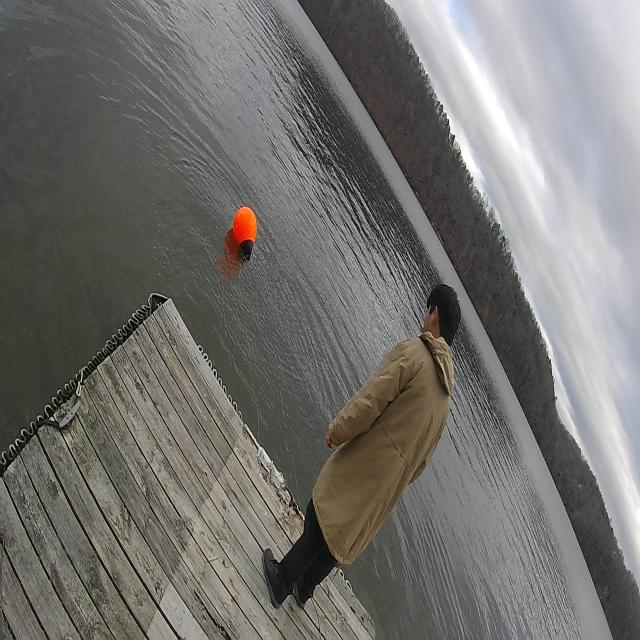Buoy: (230, 201, 262, 266)
